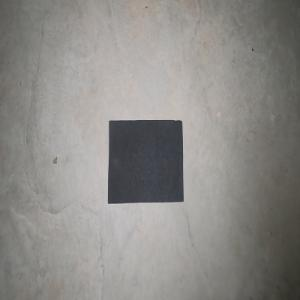PaintChip: (107, 119, 183, 204)
